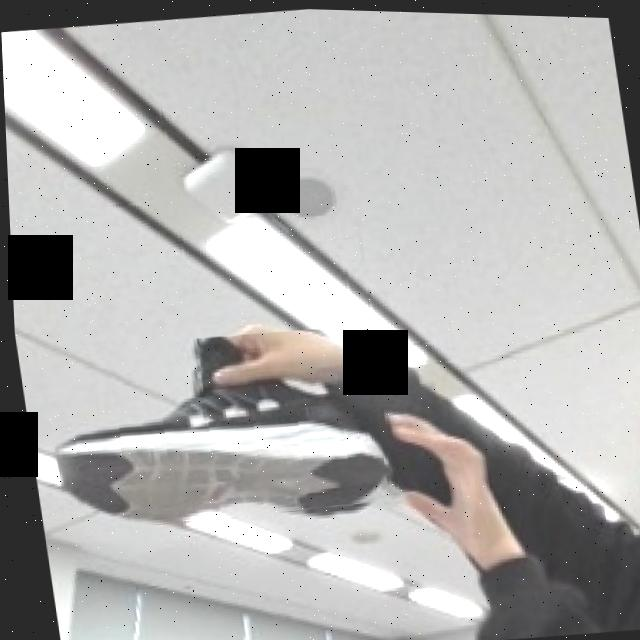shoe: (35, 315, 389, 540)
